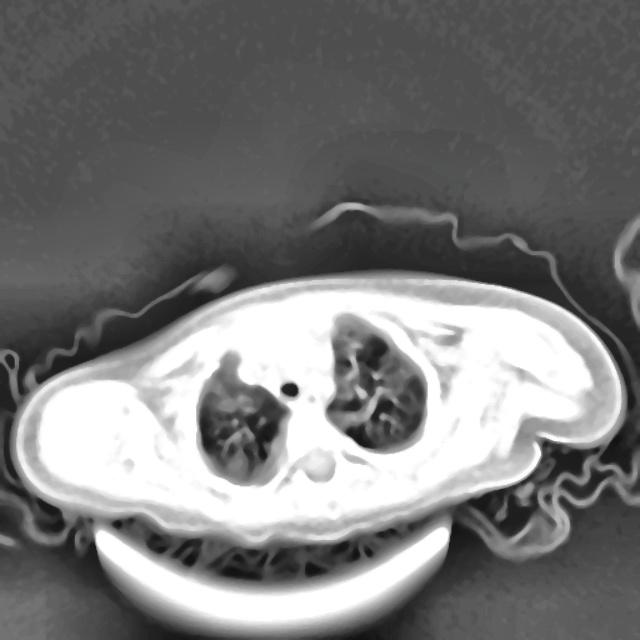covid: (6, 265, 628, 636)
